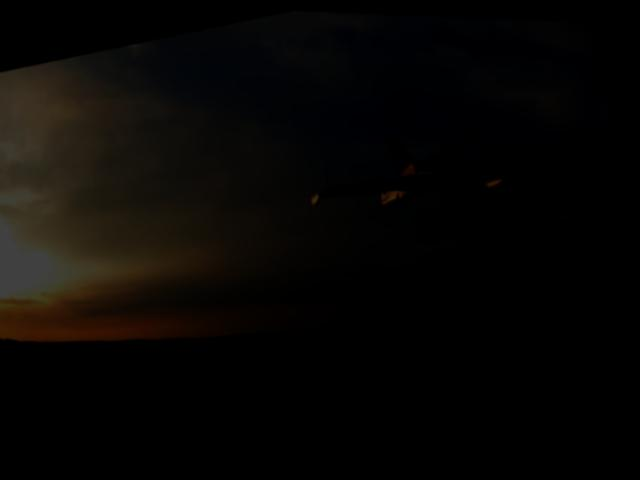plane: (298, 100, 511, 232)
